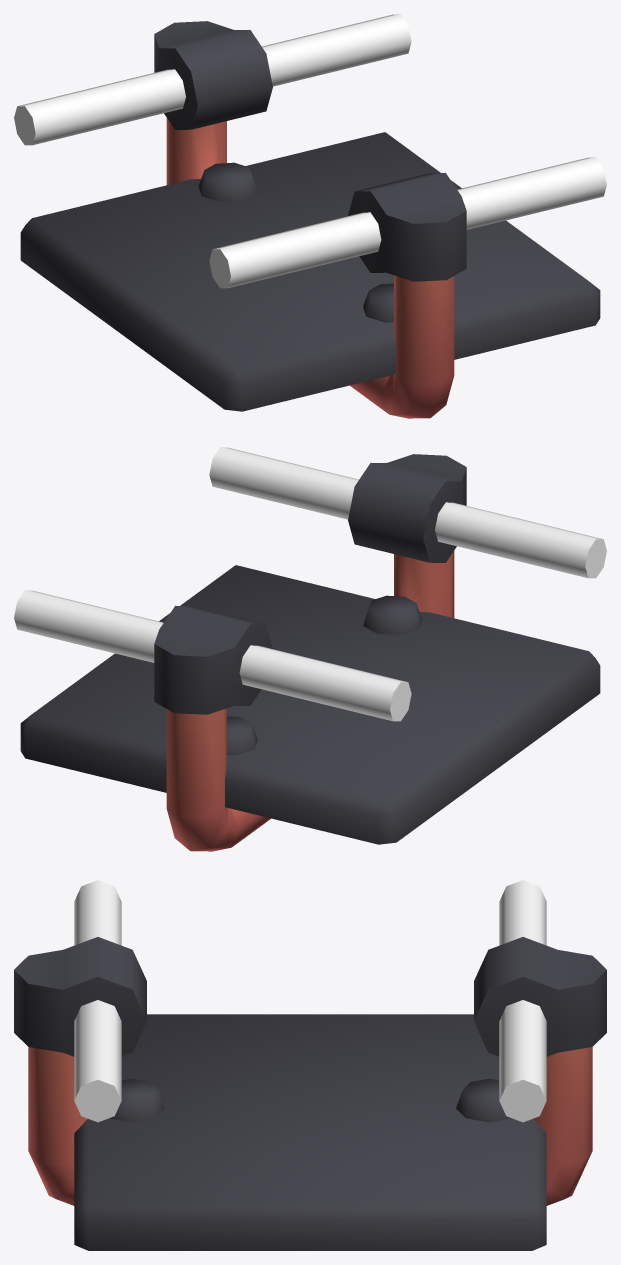
File: catwalk-straight.obj
3 renders of one model, top to bottom at view 1: azimuth 30°, elevation 25°; view 2: azimuth 150°, elevation 25°; view 3: azimuth 270°, elevation 25°, orthographic. The views are drawn at different scales.
Visible parts, largest first — view 1: catwalk-straight; view 2: catwalk-straight; view 3: catwalk-straight.
Part boxes in pixels (box(x1,y1,x2,y2)): catwalk-straight: box(14, 14, 606, 418); catwalk-straight: box(14, 447, 606, 851); catwalk-straight: box(14, 880, 606, 1250).
Bounding box in the file's own units: 1 × 0.6014 × 1.26.
